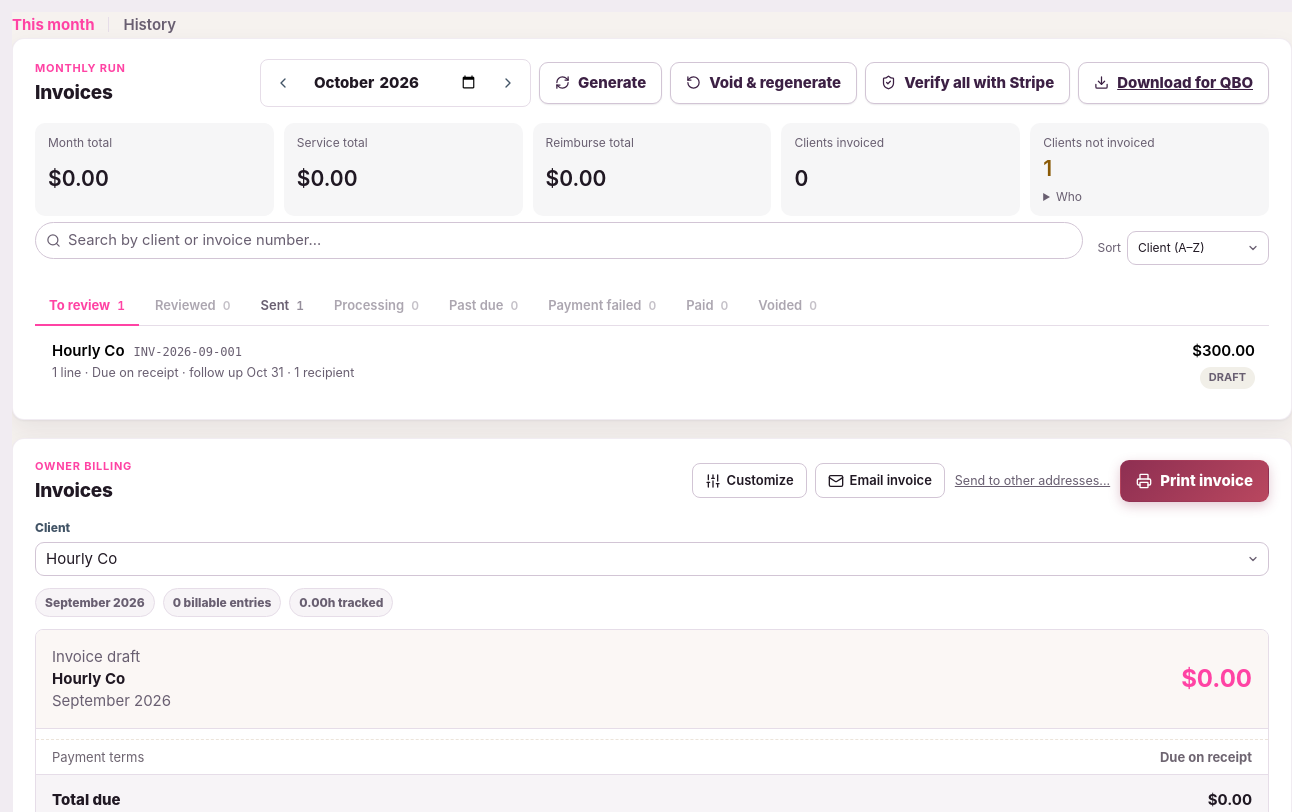
Test case: Email invoice picks the month's invoice, never a retainer by accident › a draft monthly invoice still says to mark it reviewed first, retainer or not
The width and height of the screenshot is (1292, 812).
Click the button "Email invoice" at [880, 481], box [815,463,945,498]
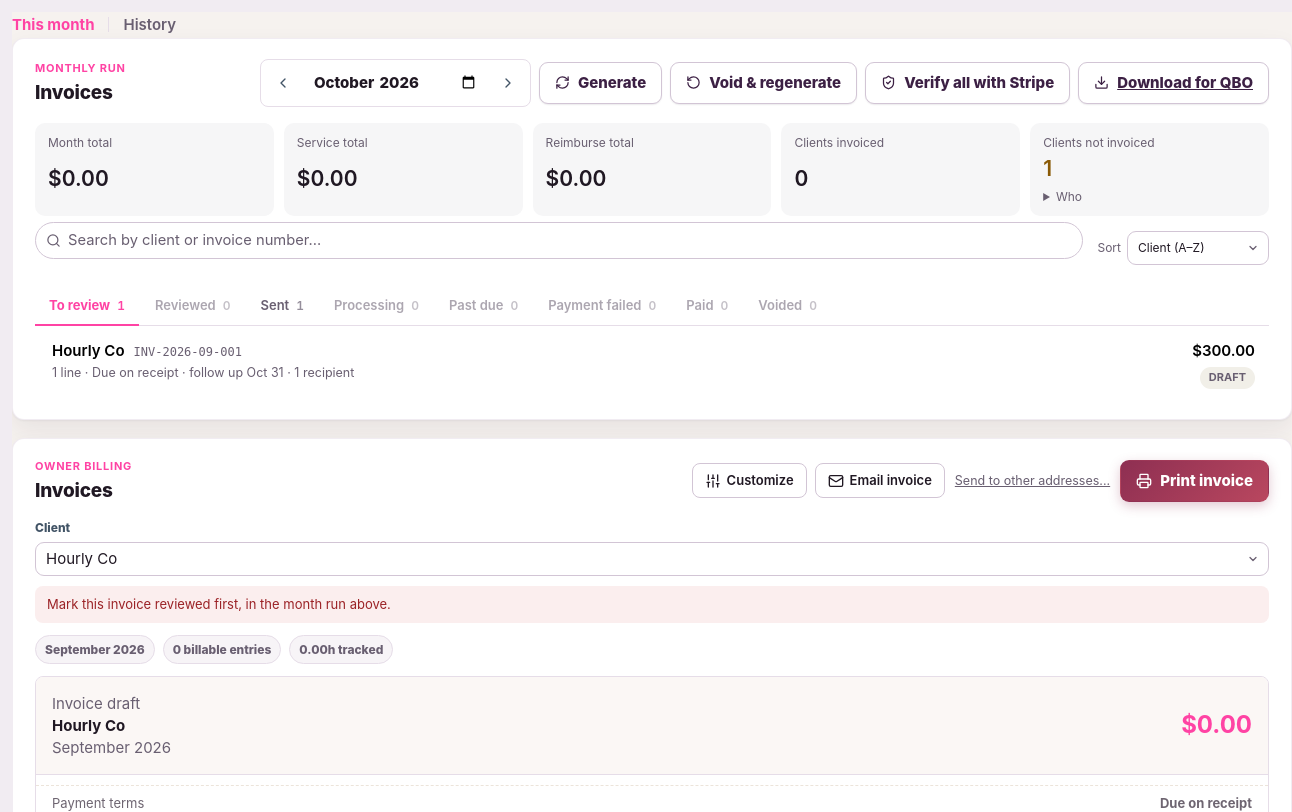
Check: the text "Mark this invoice reviewed first, in the month run above." is shown, box [35,586,1269,623]
